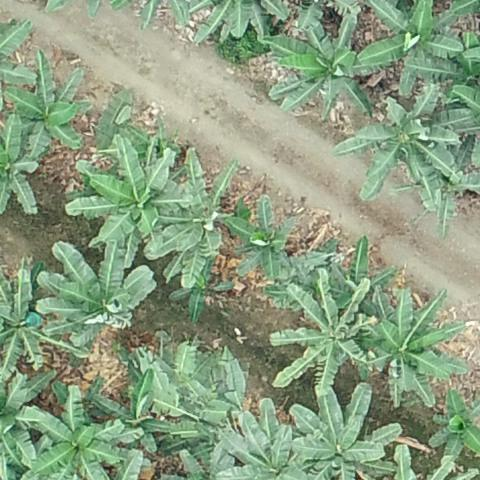Banana-plant: (75, 149, 202, 267), (337, 89, 453, 209), (367, 286, 474, 410), (34, 239, 160, 342), (270, 274, 375, 395), (276, 381, 402, 480), (205, 399, 332, 480), (19, 386, 127, 480), (287, 376, 382, 480), (136, 341, 244, 432), (272, 28, 377, 119), (366, 0, 462, 95), (5, 59, 94, 151), (92, 368, 173, 451), (225, 191, 299, 281), (0, 265, 64, 366), (426, 387, 480, 474), (0, 118, 47, 216), (165, 264, 232, 324)
